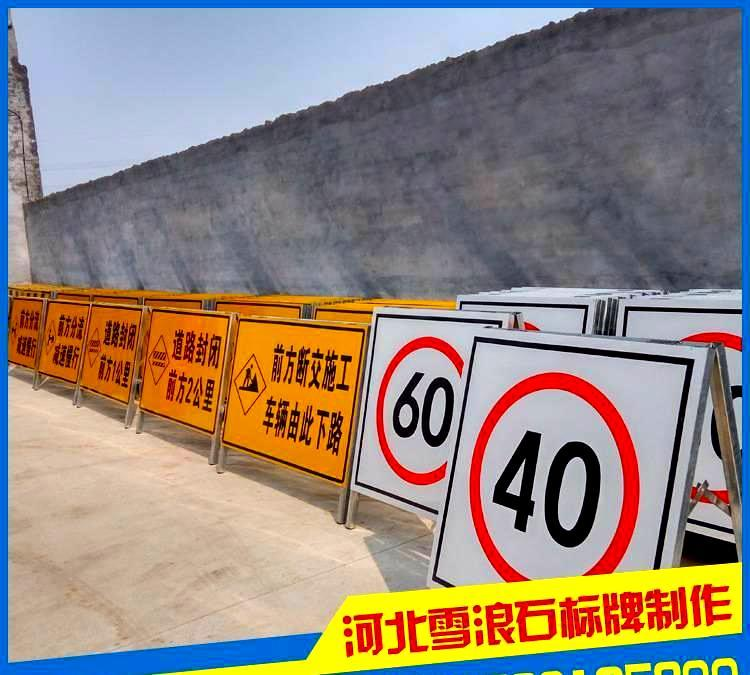sign: (231, 325, 355, 454), (10, 290, 132, 393), (145, 315, 221, 419)
